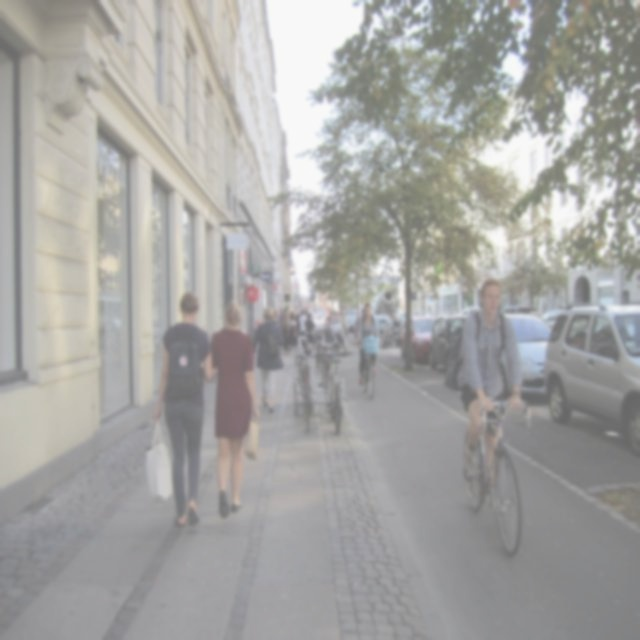pessoa: (444, 276, 524, 512), (144, 288, 212, 527), (210, 298, 262, 520), (248, 305, 284, 412), (357, 302, 382, 386), (280, 312, 291, 352), (288, 310, 297, 352), (291, 309, 300, 349), (304, 312, 315, 344), (298, 310, 307, 346), (327, 312, 334, 346), (323, 314, 329, 344), (330, 310, 340, 326), (272, 308, 280, 327), (344, 313, 350, 334), (278, 308, 284, 328), (342, 312, 348, 332), (337, 311, 345, 325), (316, 309, 322, 323), (304, 310, 308, 320), (328, 310, 334, 316), (396, 306, 399, 313), (422, 311, 425, 317), (456, 310, 459, 316), (298, 310, 300, 318), (416, 310, 418, 314)
